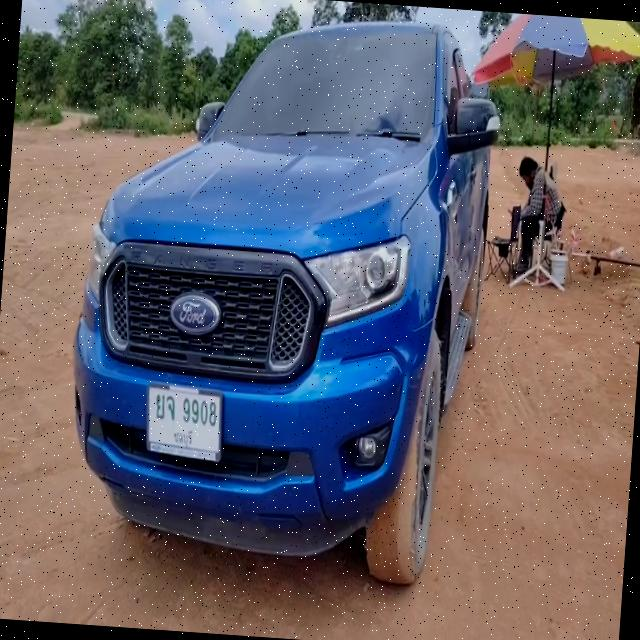Digit: (182, 397, 216, 427)
Licenseplate: (146, 384, 222, 463)
Provincename: (173, 426, 193, 449)
Thaichar: (156, 393, 175, 421)
